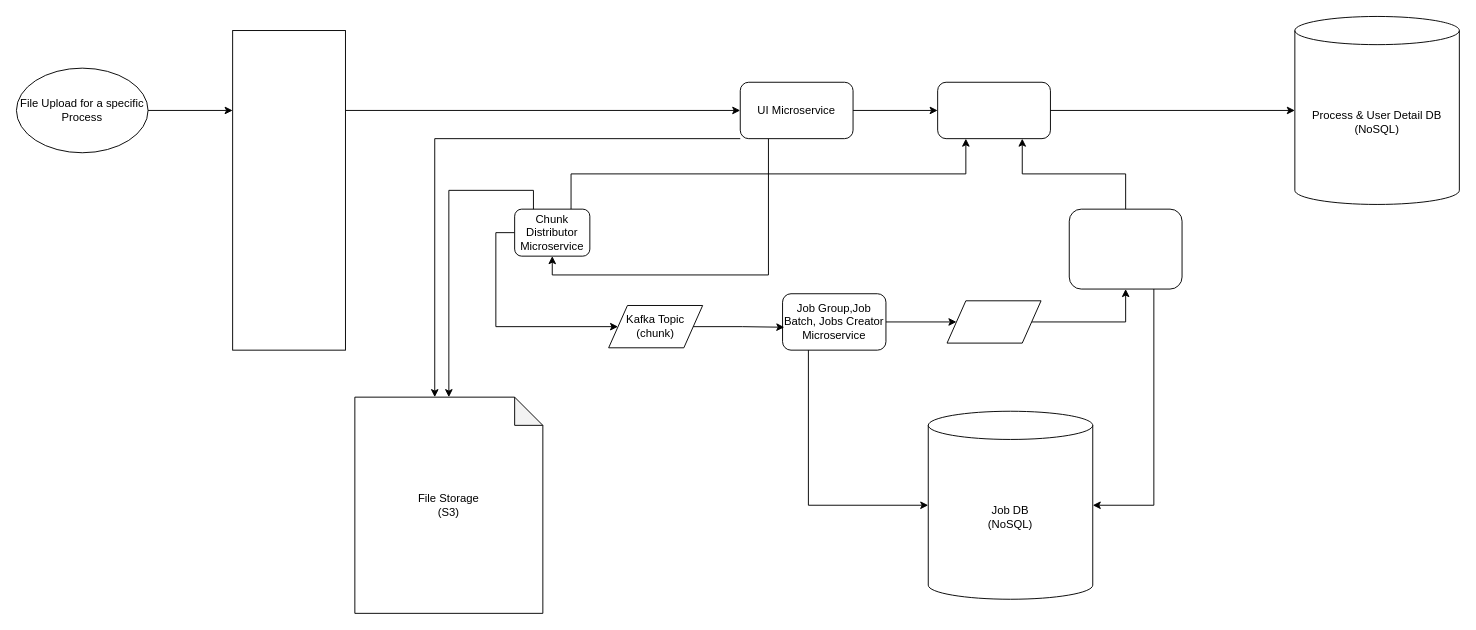
Some shapes in this 1476 by 630 pixel diagram are drawn without their labels. Each missing label, with the box of its shape:
API Gateway: (232, 30, 345, 350)
Kafka Topic (route): (946, 300, 1041, 343)
Process,User Detail Microservice: (937, 81, 1050, 139)
Route Microservice (JobBatch Processor & RouteEnd Processot): (1068, 208, 1182, 289)
